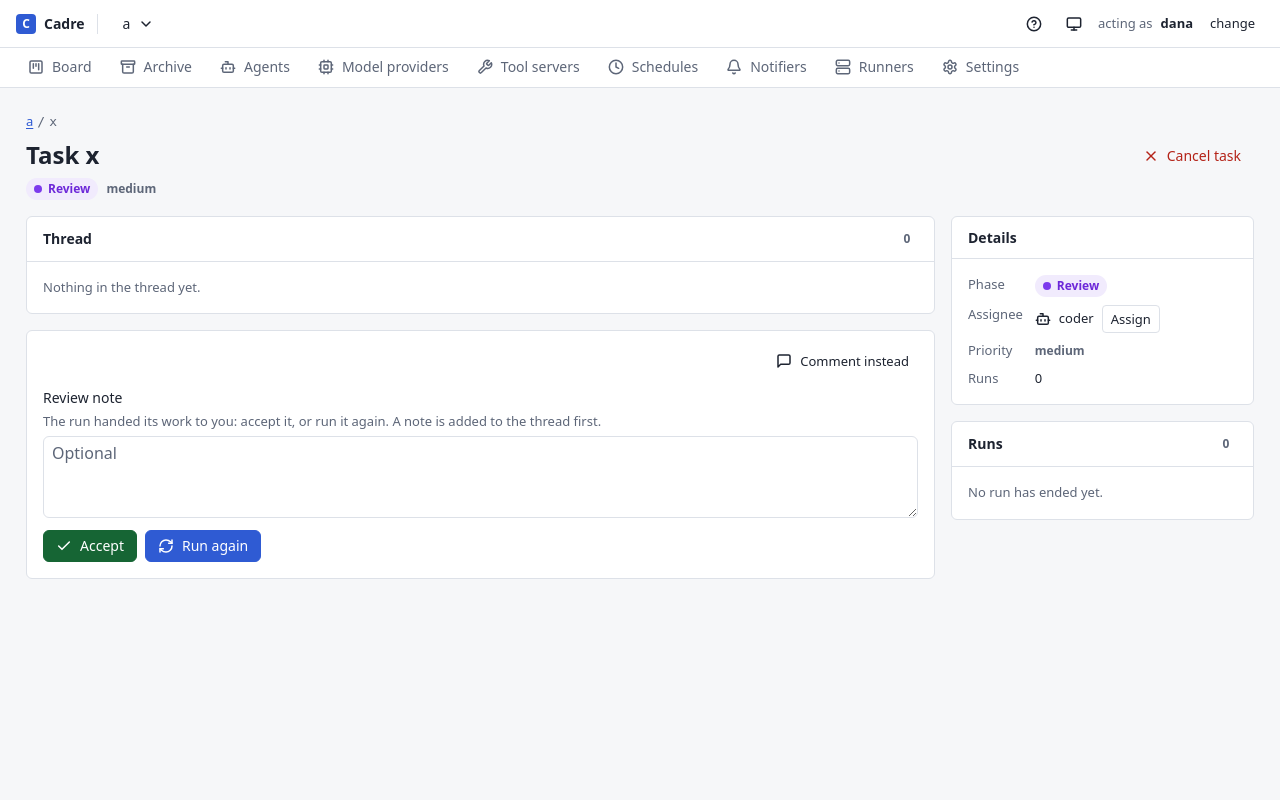
Test case: A task in Review › is accepted from its composer, and ends with no actions left
Expected: the button "Run again" is shown, [145,530,261,562]
What coordinates should you click on to do the following:
click the button "Accept"
I would click on:
 (90, 546)
Its box is [43,530,137,562].
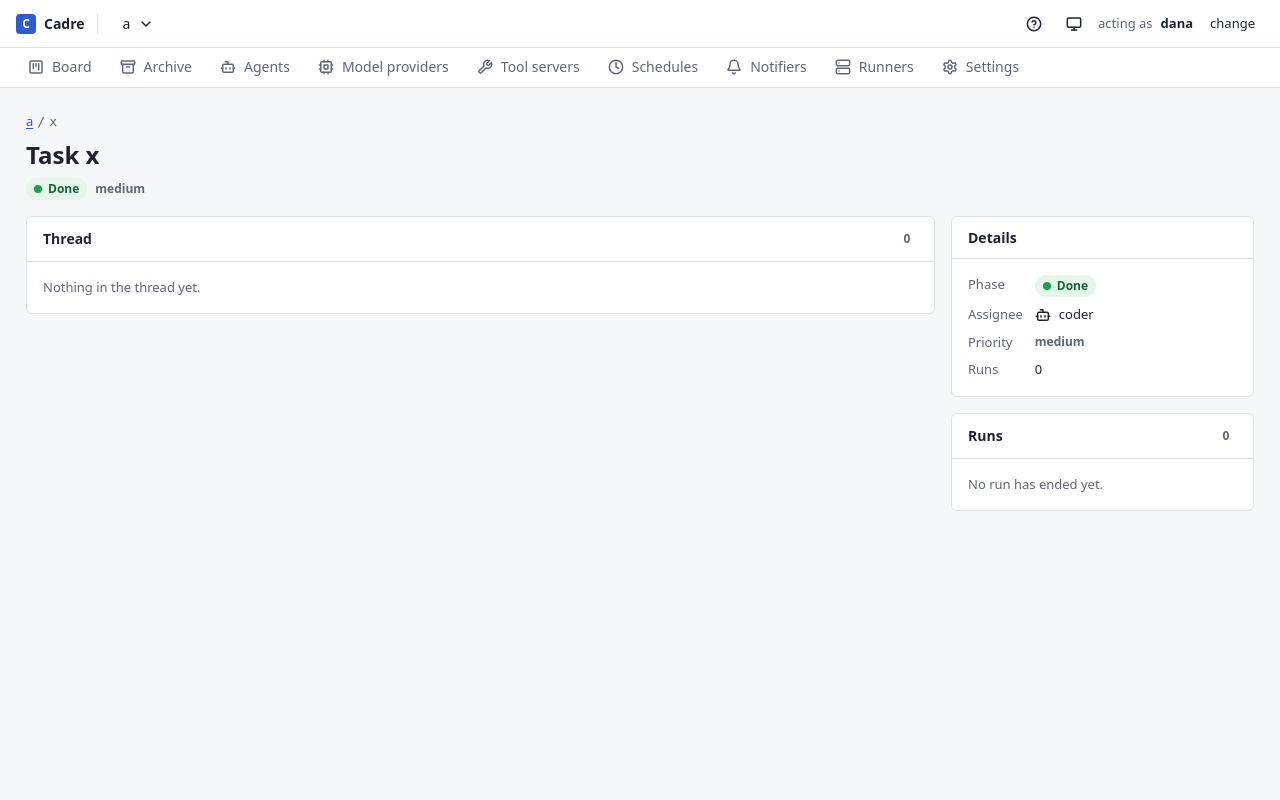
Result: the element "Actions" is gone
